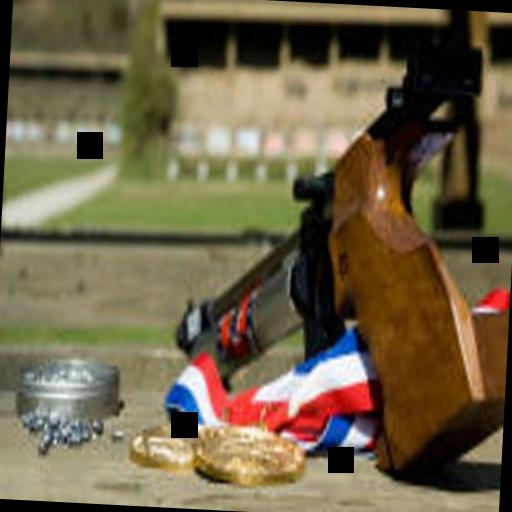Handgun: (164, 25, 499, 480)
